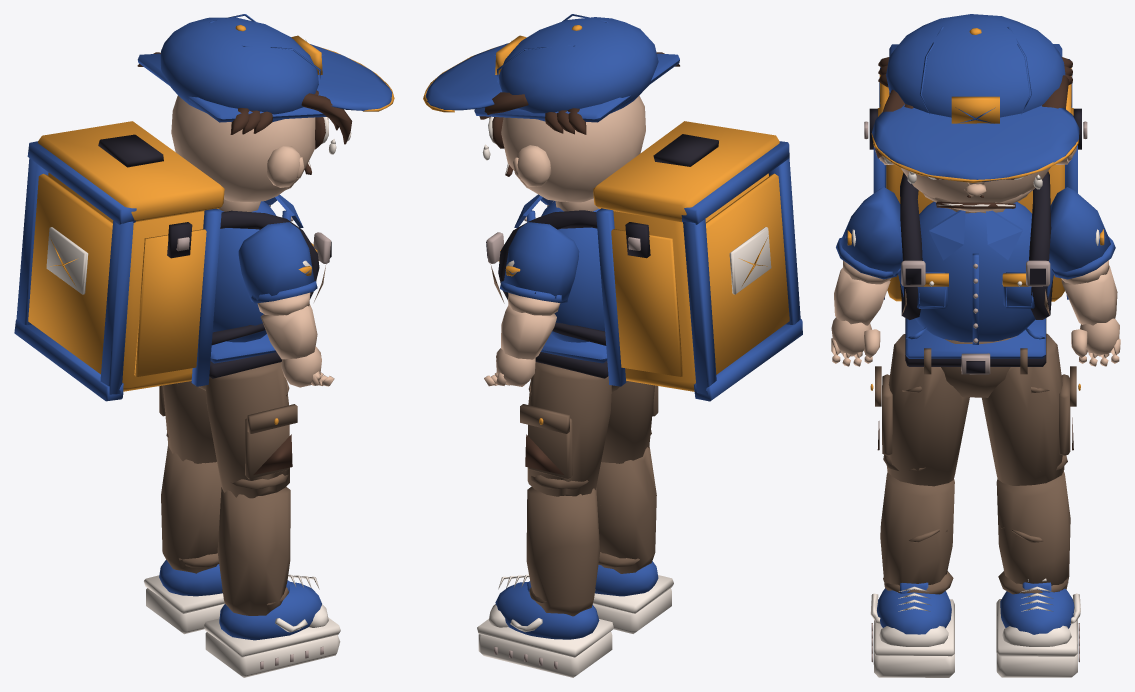
File: model.sick.lod1.glb
3 views of the same model, side by side, from view 1: azimuth 30°, elevation 25°; view 2: azimuth 150°, elevation 25°; view 3: azimuth 270°, elevation 25° (orthographic). The views are drawn at different scales.
Parts seen in each view (by area): view 1: torso__pal_schoolBusYellow, torso__pal_policeBlue, head__pal_policeBlue, head__pal_infectedSkin, shinR__pal_asphalt, legR__pal_asphalt, shinL__pal_asphalt, footR__pal_picketWhite, armR__pal_policeBlue, torso__pal_uiDark, legL__pal_asphalt, footR__pal_policeBlue (+11 smaller); view 2: torso__pal_schoolBusYellow, torso__pal_policeBlue, head__pal_policeBlue, head__pal_infectedSkin, legL__pal_asphalt, shinL__pal_asphalt, shinR__pal_asphalt, footL__pal_picketWhite, armL__pal_policeBlue, torso__pal_uiDark, legR__pal_asphalt, footL__pal_policeBlue (+11 smaller); view 3: head__pal_policeBlue, torso__pal_policeBlue, legL__pal_asphalt, legR__pal_asphalt, shinR__pal_asphalt, shinL__pal_asphalt, torso__pal_uiDark, footL__pal_picketWhite, footR__pal_picketWhite, armR__pal_policeBlue, armL__pal_policeBlue, head__pal_infectedSkin (+13 smaller).
Part boxes in pixels (x1,y1,x2,y2): torso__pal_schoolBusYellow: [28, 121, 317, 391]; torso__pal_policeBlue: [14, 141, 303, 401]; head__pal_policeBlue: [137, 14, 392, 122]; head__pal_infectedSkin: [171, 95, 315, 211]; shinR__pal_asphalt: [217, 474, 290, 615]; legR__pal_asphalt: [205, 362, 297, 498]; shinL__pal_asphalt: [161, 433, 221, 573]; footR__pal_picketWhite: [204, 574, 340, 677]; armR__pal_policeBlue: [238, 222, 317, 303]; torso__pal_uiDark: [98, 134, 331, 345]; legL__pal_asphalt: [159, 381, 216, 463]; footR__pal_policeBlue: [219, 580, 321, 640]; torso__pal_schoolBusYellow: [498, 121, 789, 391]; torso__pal_policeBlue: [514, 141, 802, 401]; head__pal_policeBlue: [425, 14, 679, 122]; head__pal_infectedSkin: [501, 95, 645, 211]; legL__pal_asphalt: [520, 362, 611, 496]; shinL__pal_asphalt: [526, 475, 600, 616]; shinR__pal_asphalt: [596, 430, 656, 573]; footL__pal_picketWhite: [477, 574, 613, 677]; armL__pal_policeBlue: [500, 222, 579, 303]; torso__pal_uiDark: [486, 134, 718, 345]; legR__pal_asphalt: [601, 380, 658, 463]; footL__pal_policeBlue: [495, 581, 599, 639]; head__pal_policeBlue: [872, 14, 1079, 181]; torso__pal_policeBlue: [873, 59, 1077, 358]; legL__pal_asphalt: [982, 333, 1076, 542]; legR__pal_asphalt: [875, 334, 969, 542]; shinR__pal_asphalt: [880, 454, 954, 594]; shinL__pal_asphalt: [996, 455, 1070, 594]; torso__pal_uiDark: [869, 108, 1081, 319]; footL__pal_picketWhite: [996, 578, 1080, 677]; footR__pal_picketWhite: [870, 586, 954, 677]; armR__pal_policeBlue: [836, 187, 902, 279]; armL__pal_policeBlue: [1049, 187, 1115, 279]; head__pal_infectedSkin: [875, 147, 1076, 213].
Size of the model in its own units: 0.7705 by 1.41 by 0.5939.
